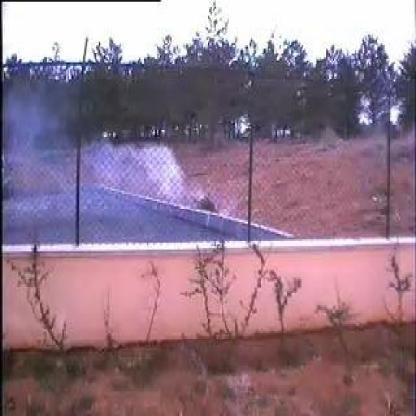-: (43, 95, 200, 241)
